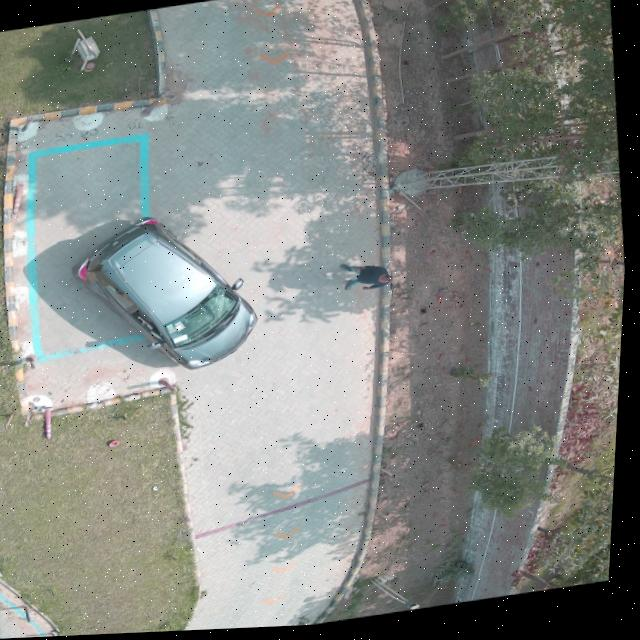car: (76, 217, 259, 371)
